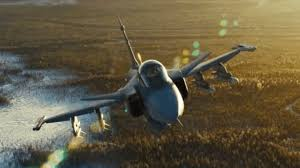fighter: (29, 16, 259, 140)
